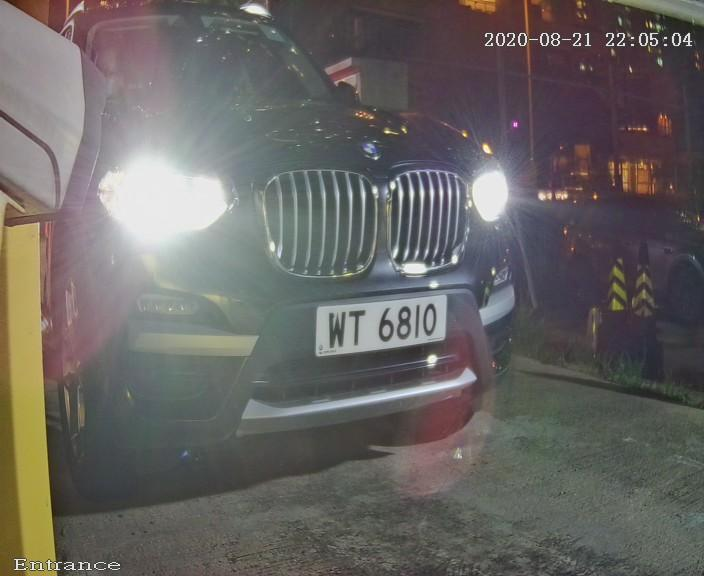License Plate: (296, 278, 478, 361)
